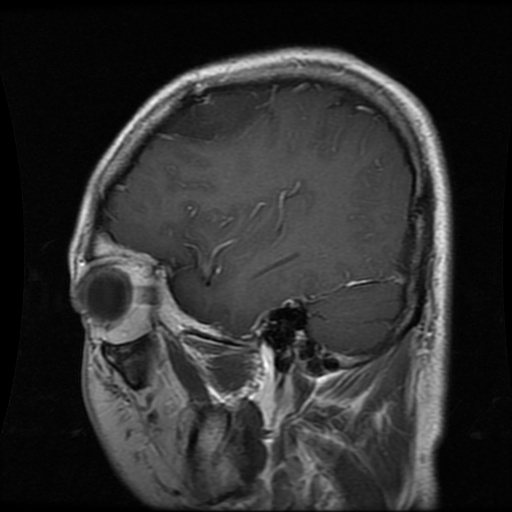glioma: (161, 93, 273, 135)
